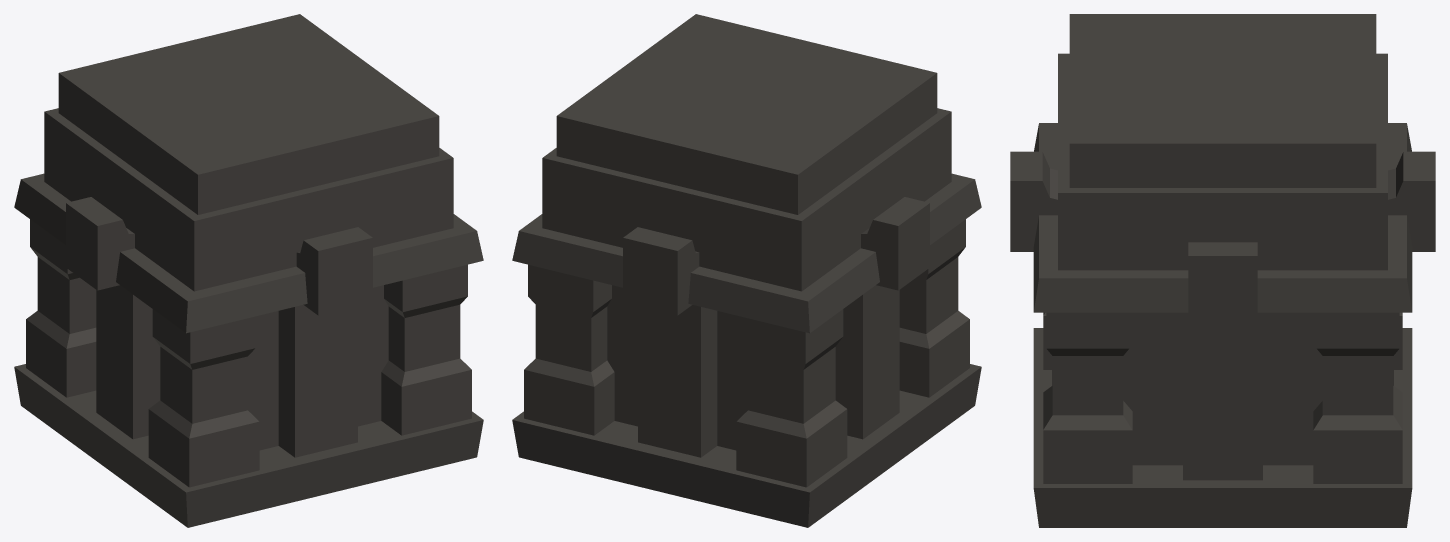
The model's file is Pillar_4.fbx.
The picture shows the model from 3 angles, left to right: view 1: azimuth 30°, elevation 25°; view 2: azimuth 150°, elevation 25°; view 3: azimuth 270°, elevation 25°; orthographic projection. The views are drawn at different scales.
Parts seen in each view (by area): view 1: polySurface1260; view 2: polySurface1260; view 3: polySurface1260.
Boxes of the visible parts, x1=… form: polySurface1260: x1=14, y1=14, x2=483, y2=527; polySurface1260: x1=512, y1=14, x2=981, y2=527; polySurface1260: x1=1010, y1=14, x2=1435, y2=527.
Bounding box in the file's own units: 2.05 × 1.97 × 2.05.
